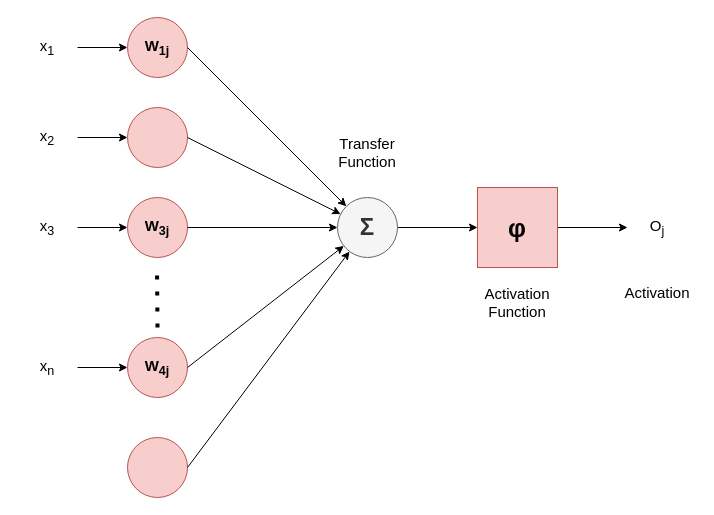
Some shapes in this 714 by 515 pixel diagram are drawn without their labels. The centre of each missing label's shape, as x and y in pixels:
Bias: point (157, 467)
W 2j: point (157, 137)
